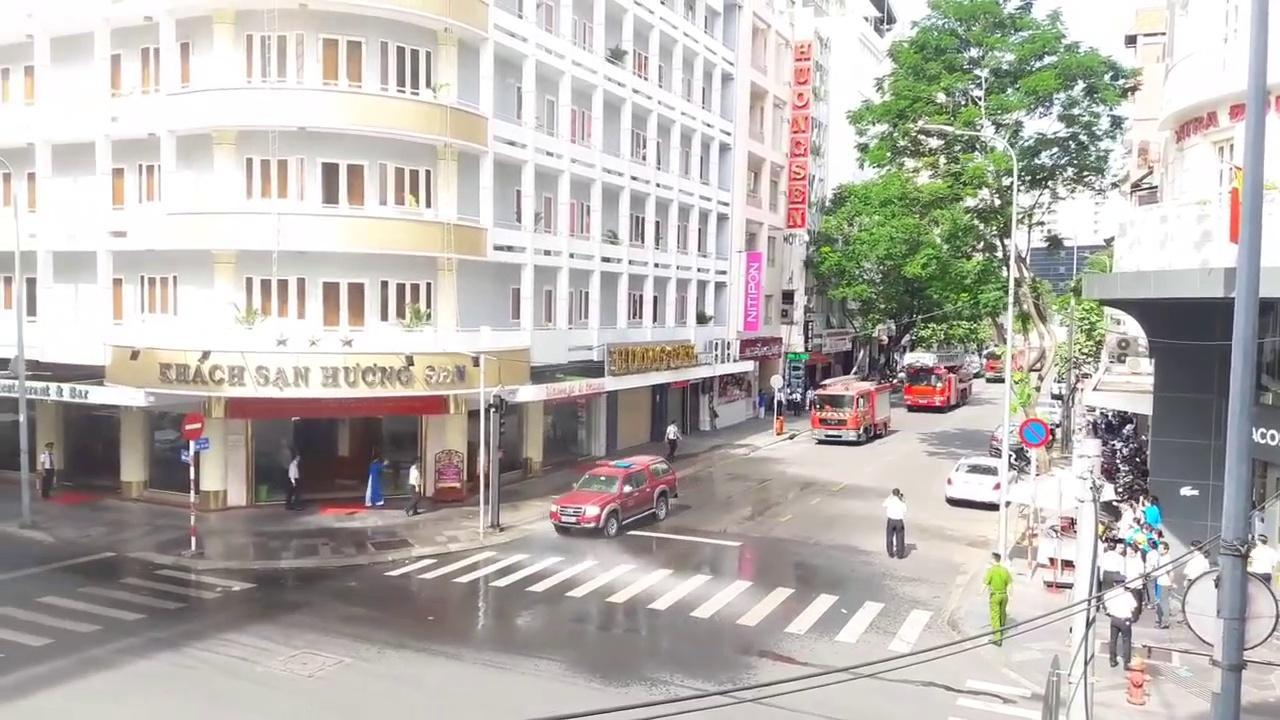xe cuu hoa: (810, 374, 890, 444), (901, 352, 971, 411)
xe hoi: (548, 452, 676, 538), (944, 455, 999, 501)
